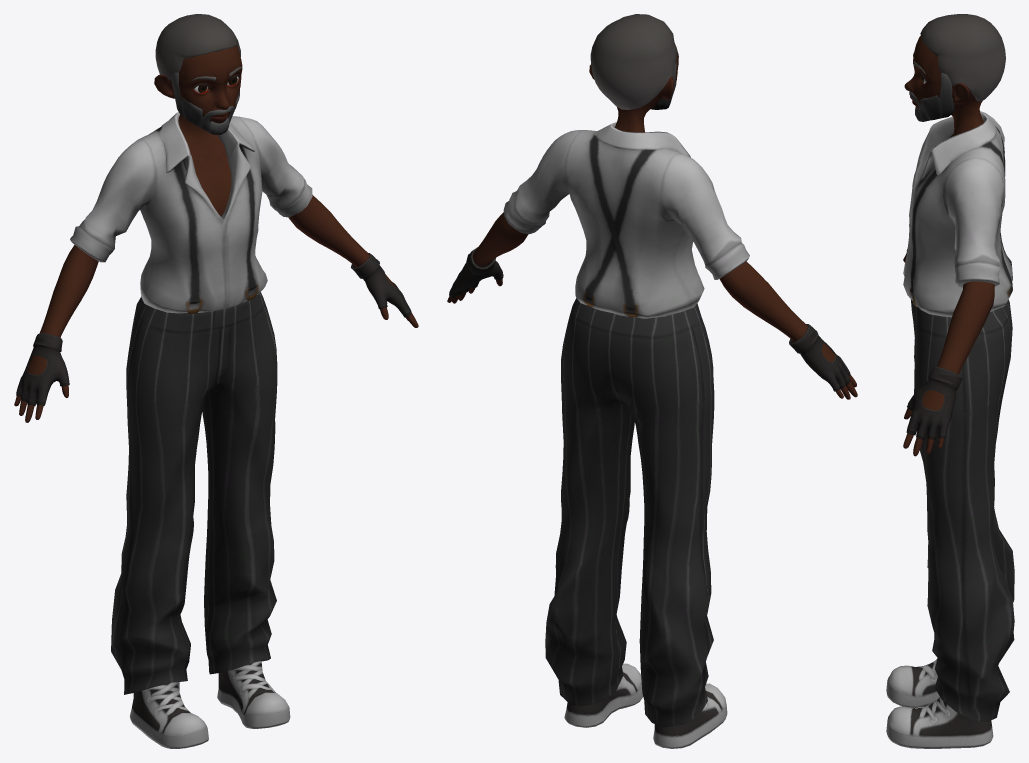
Rendered from StaffDaniel2_Mesh.obj.
The picture shows the model from 3 angles, left to right: view 1: azimuth 30°, elevation 25°; view 2: azimuth 150°, elevation 25°; view 3: azimuth 270°, elevation 25°; orthographic projection.
Parts seen in each view (by area): view 1: StaffDaniel2_Mesh_0; view 2: StaffDaniel2_Mesh_0; view 3: StaffDaniel2_Mesh_0.
Part boxes in pixels (bbox=[...]): StaffDaniel2_Mesh_0: bbox=[14, 14, 418, 748]; StaffDaniel2_Mesh_0: bbox=[447, 14, 857, 748]; StaffDaniel2_Mesh_0: bbox=[886, 14, 1014, 748].
Bounding box in the file's own units: 1.06 × 1.79 × 0.2966.
Materials: 1 (1 with a texture image).
